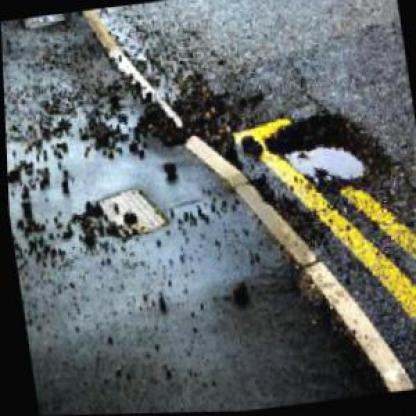pothole: (258, 104, 394, 202)
